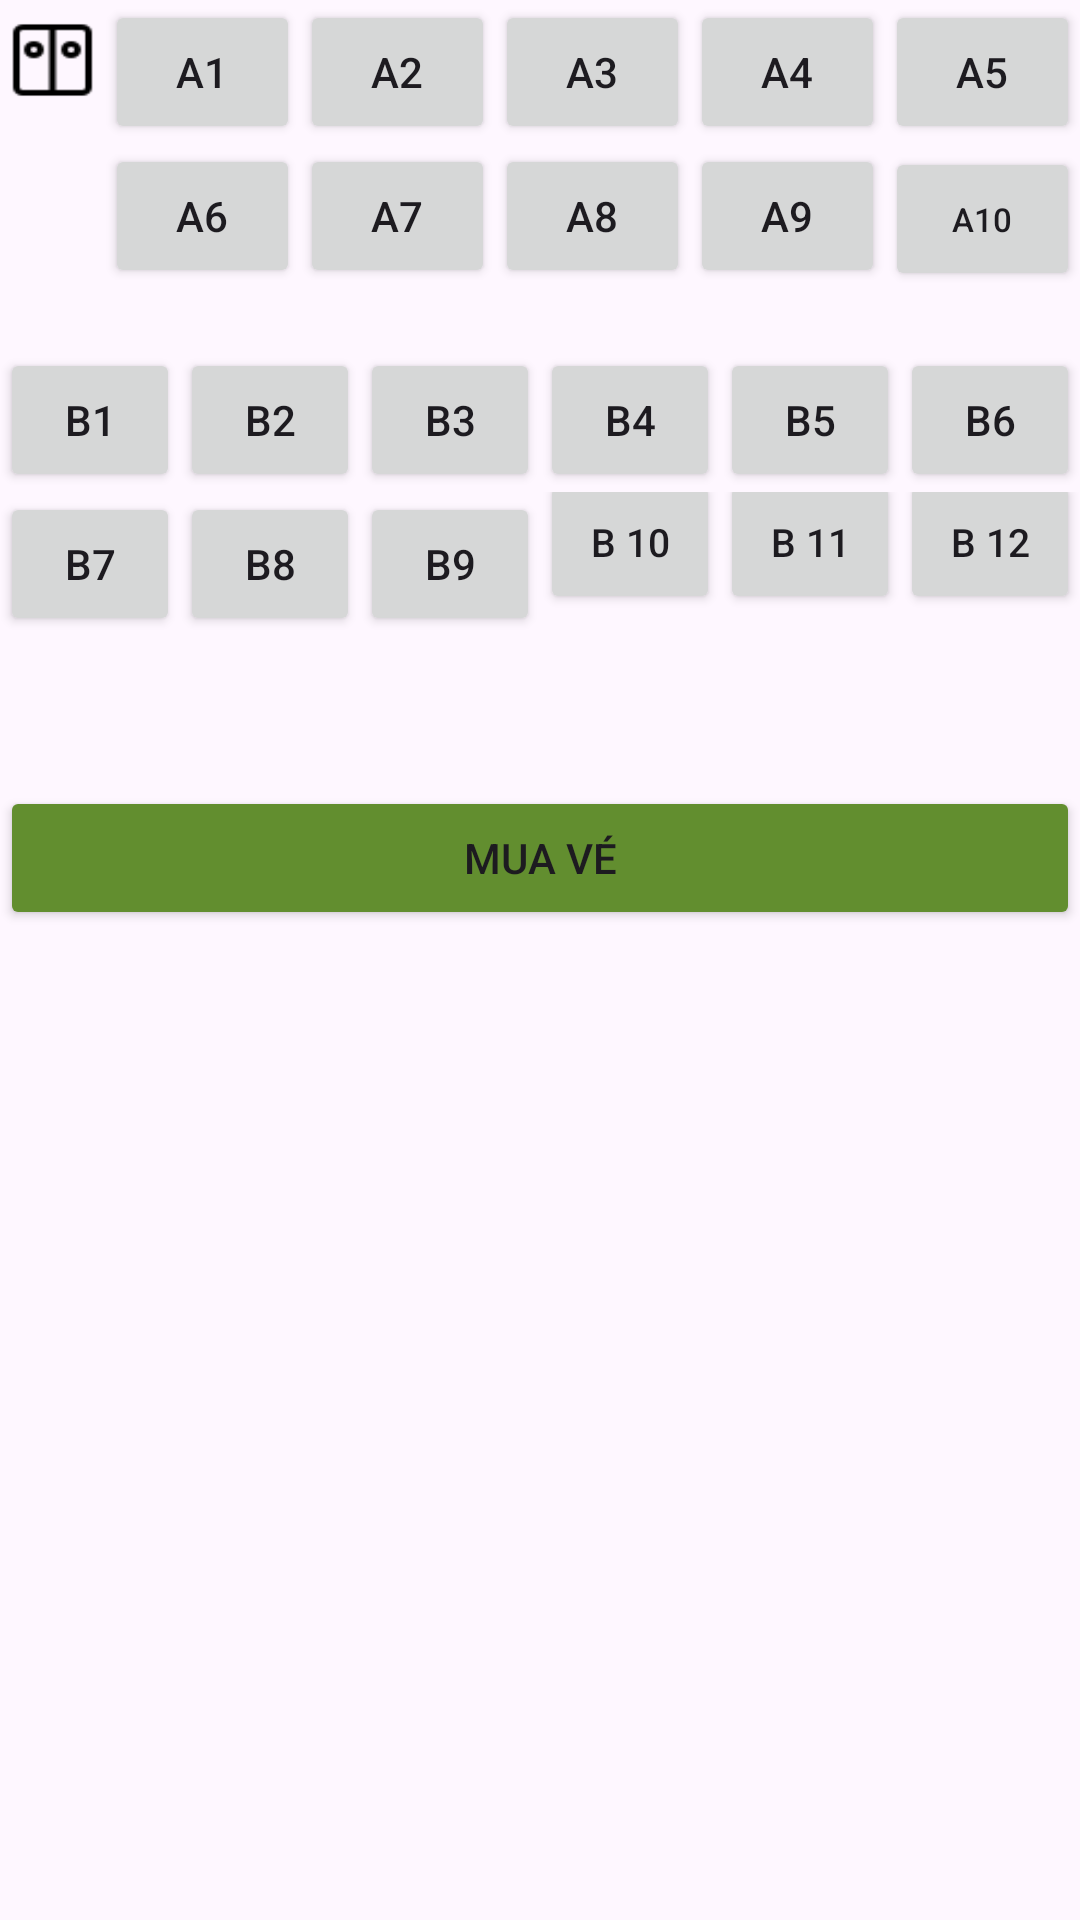

Icons on this 1080px×1920px Android screen, each with the point to tap as (x,y):
doors: (52,60)
